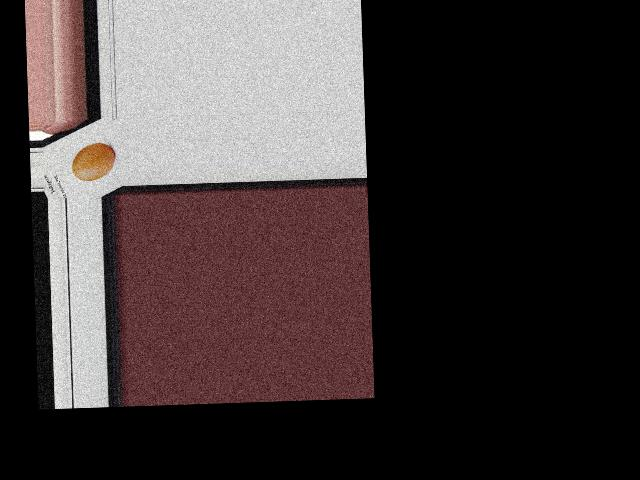egg: (71, 142, 115, 180)
